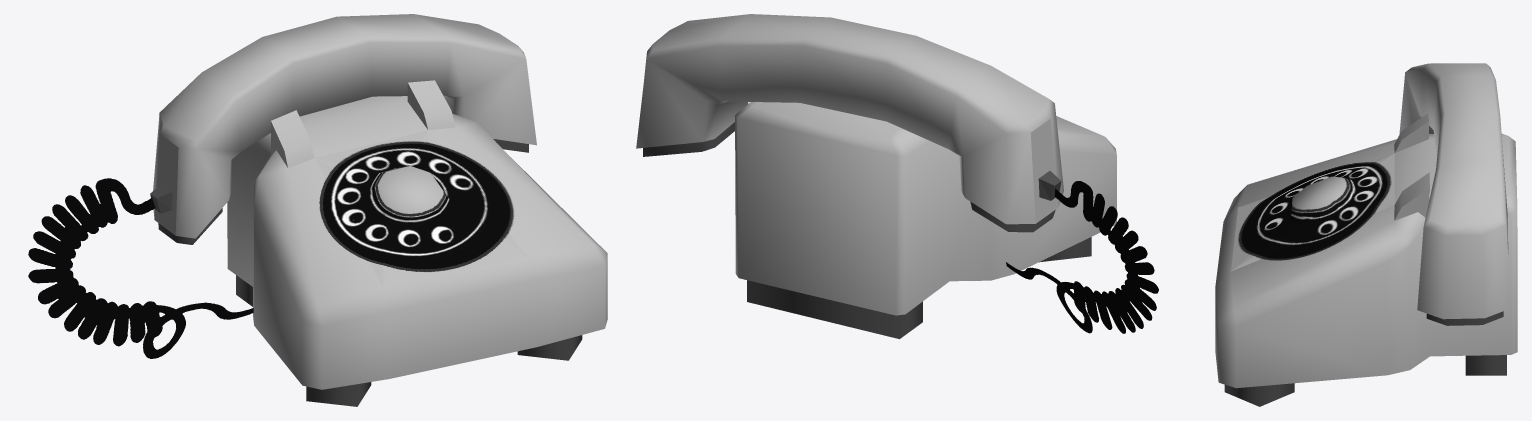
Rendered from Telephone.FBX.
The picture shows the model from 3 angles, left to right: view 1: azimuth 30°, elevation 25°; view 2: azimuth 150°, elevation 25°; view 3: azimuth 270°, elevation 25°; orthographic projection. The views are drawn at different scales.
Parts seen in each view (by area): view 1: telephone; view 2: telephone; view 3: telephone.
Part boxes in pixels (left/top/right/bottom): telephone: left=28, top=14, right=607, bottom=406; telephone: left=636, top=14, right=1158, bottom=339; telephone: left=1215, top=63, right=1517, bottom=406.
Bounding box in the file's own units: 2.06 × 1.12 × 1.14.
